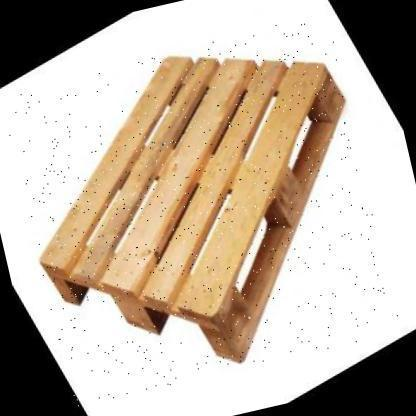pallet: (42, 53, 353, 367)
